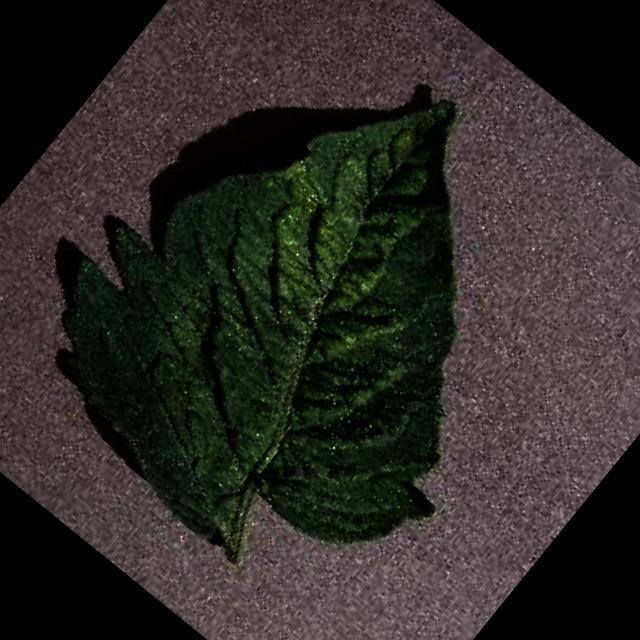Tomato spider mites leaf: (0, 0, 639, 635)
